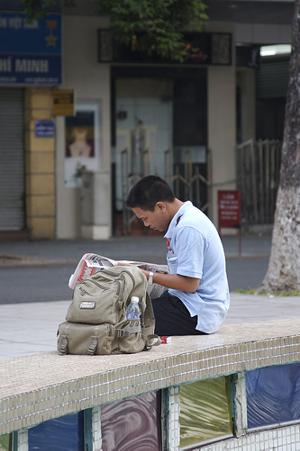person: (127, 174, 231, 339)
